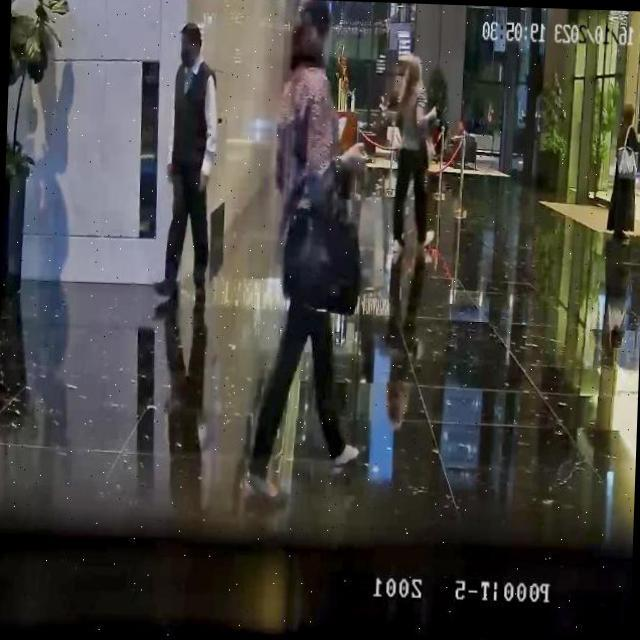person: (240, 0, 374, 504), (152, 21, 222, 312), (384, 41, 438, 252), (604, 102, 640, 239)
